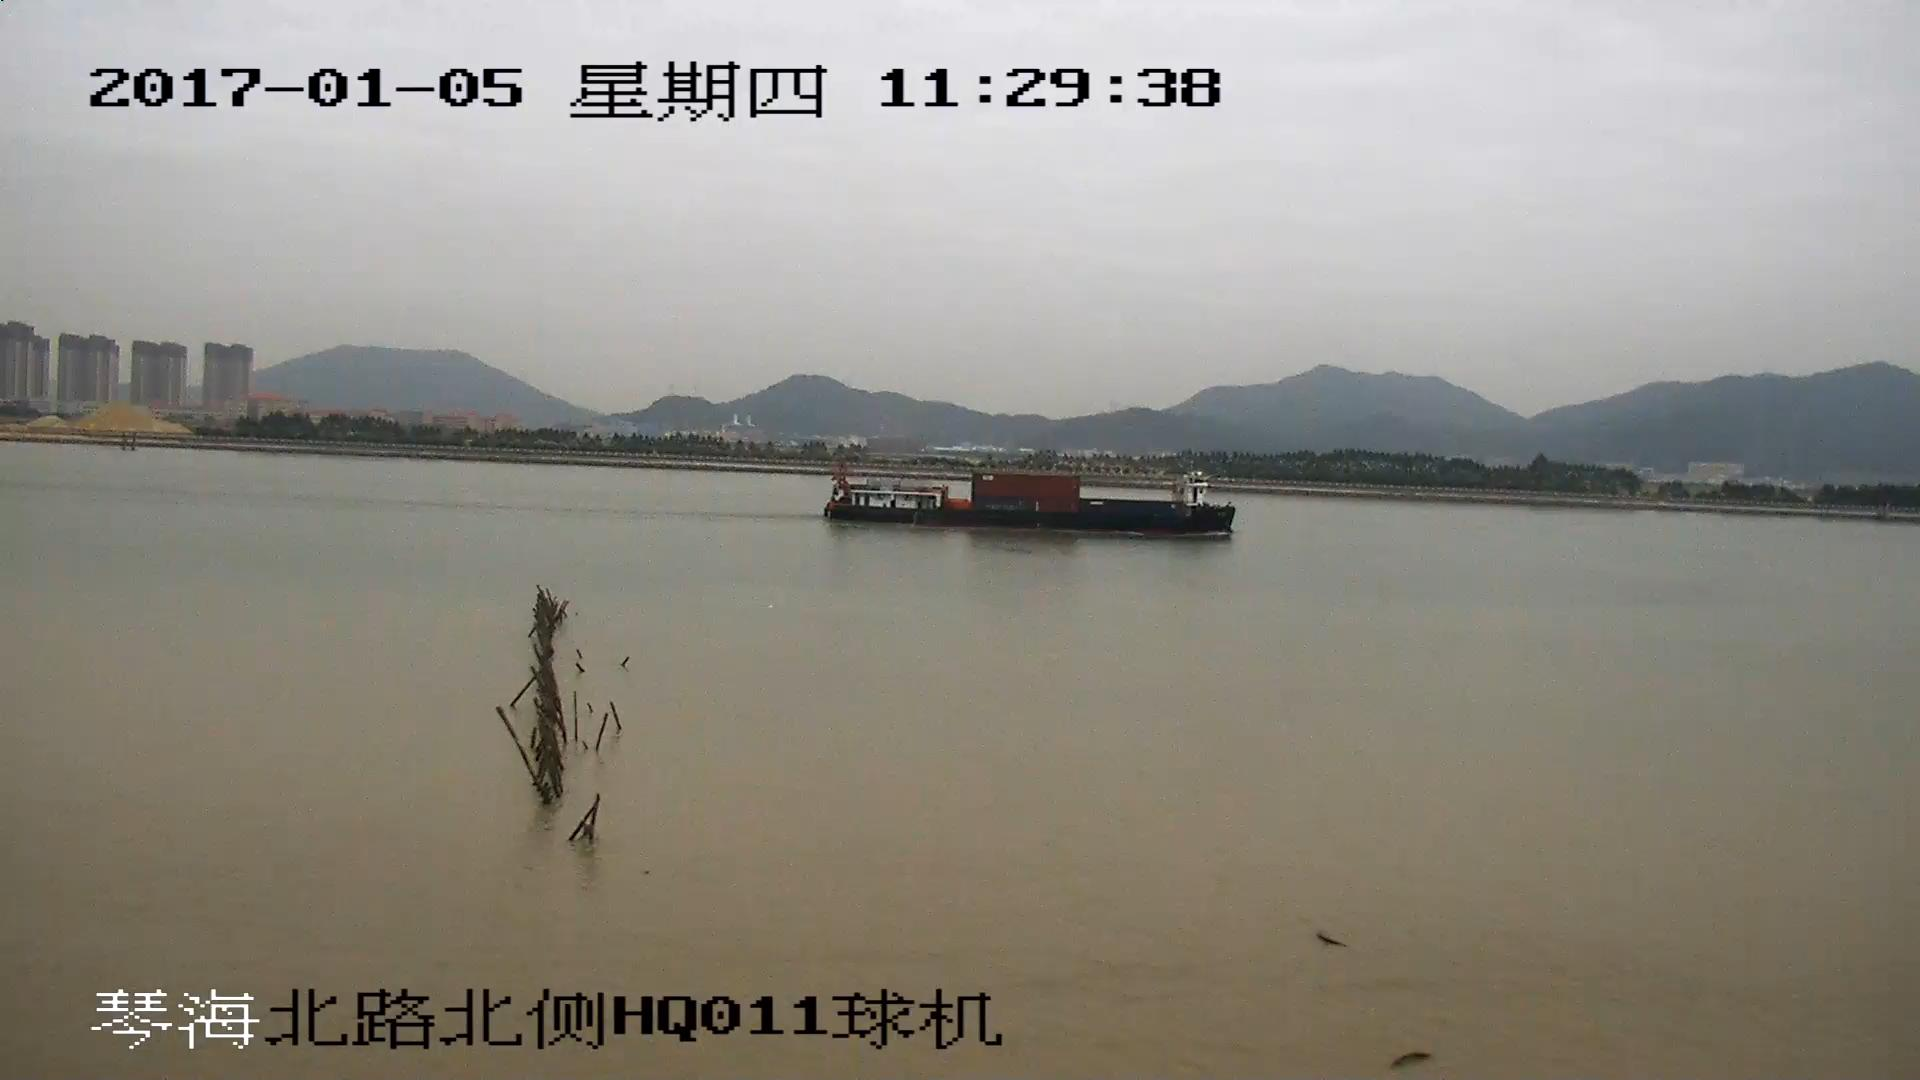container ship: (820, 466, 1233, 536)
